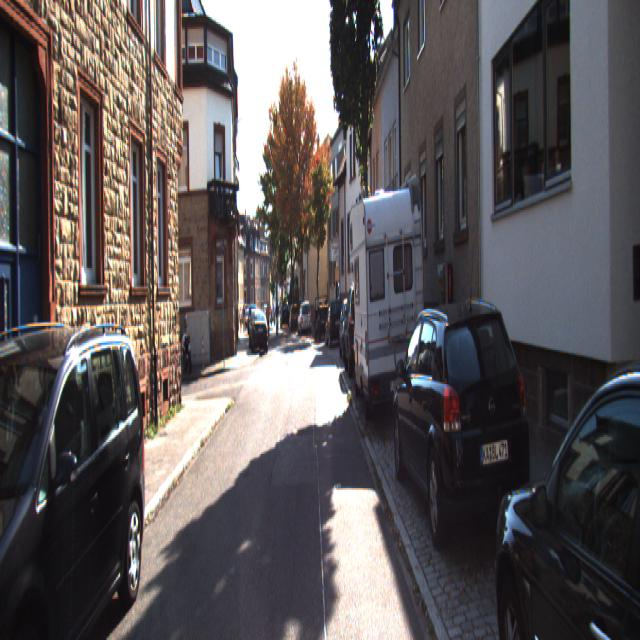Car: (485, 306, 639, 638), (0, 319, 149, 639), (392, 298, 538, 574), (347, 165, 429, 426), (343, 280, 376, 382), (338, 297, 366, 369), (311, 298, 332, 347), (324, 300, 343, 350), (250, 313, 268, 358), (297, 302, 313, 336)
